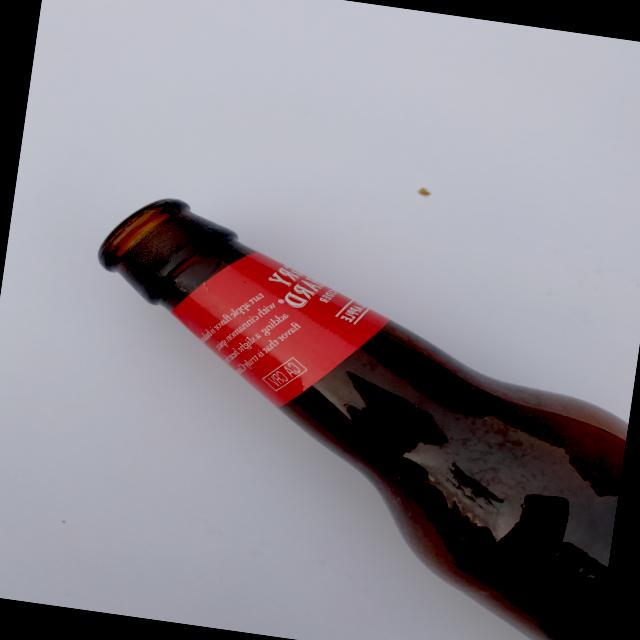Glass: (44, 184, 640, 640)
